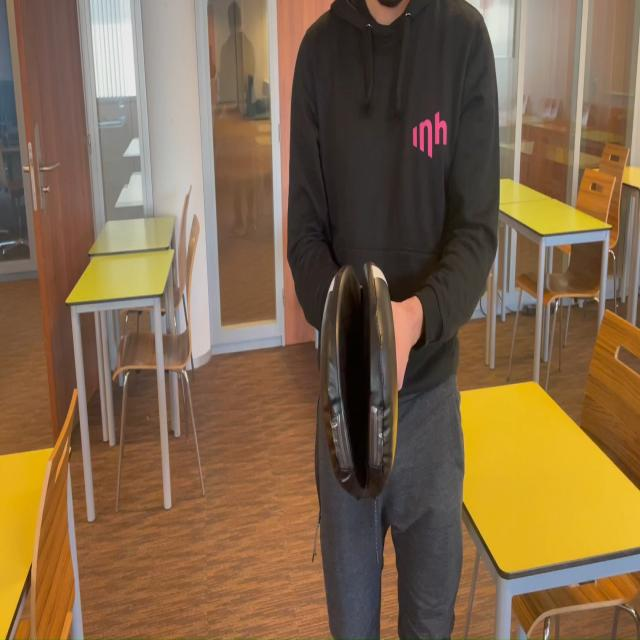paddle: (327, 274, 396, 502)
